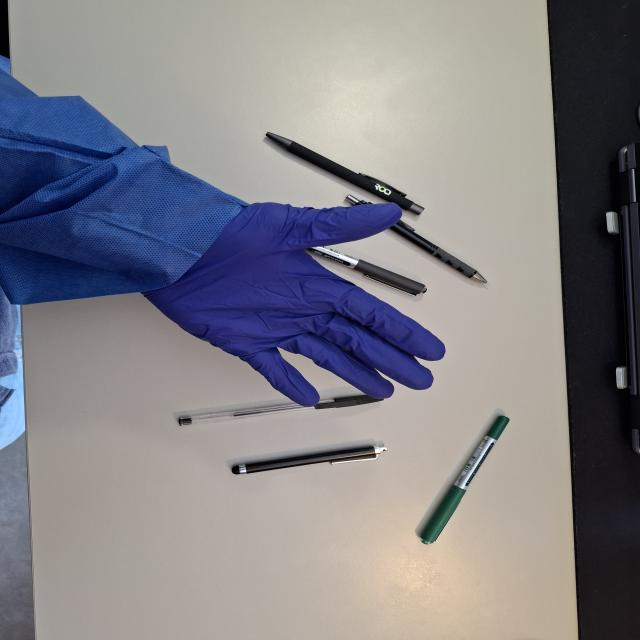glove_on: (137, 196, 450, 410)
